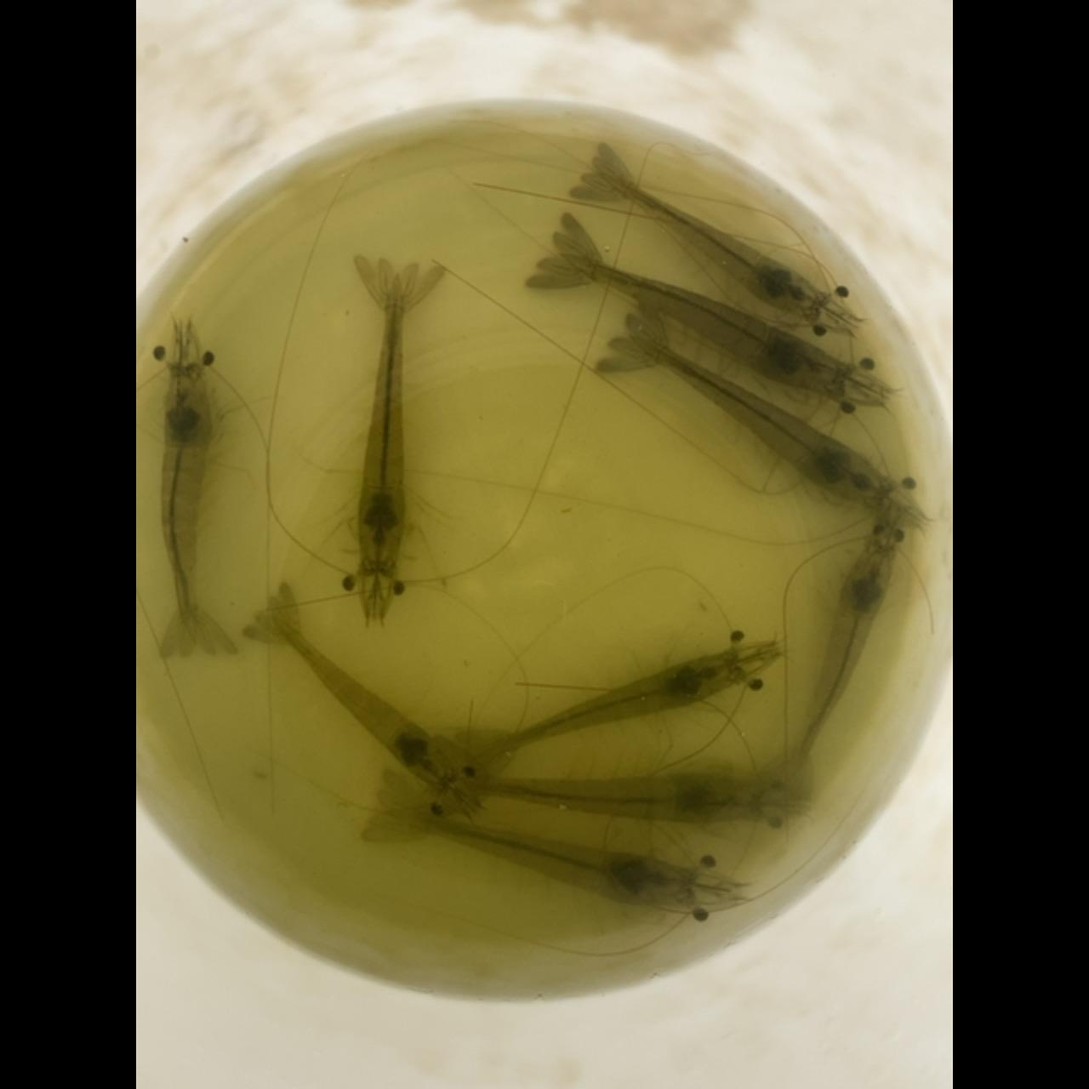round_base: (139, 137, 918, 943)
top_shrimp: (630, 334, 888, 506), (558, 254, 847, 397), (596, 173, 824, 319), (271, 611, 455, 790), (389, 808, 692, 908), (469, 652, 741, 756), (783, 545, 895, 788), (453, 771, 767, 823), (356, 273, 405, 574), (160, 366, 213, 641)
